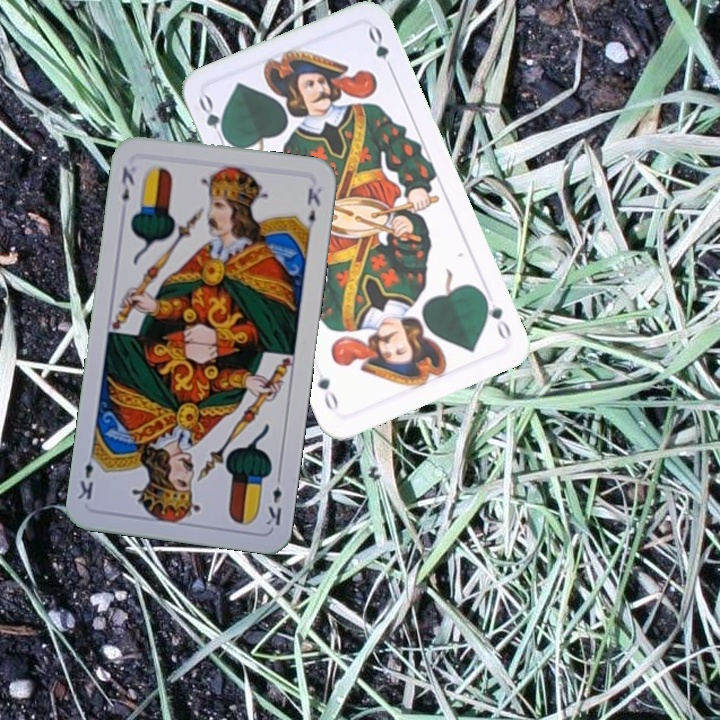EK: (262, 469, 285, 528), (117, 163, 137, 204)
GO: (194, 91, 233, 149), (478, 288, 514, 343)
